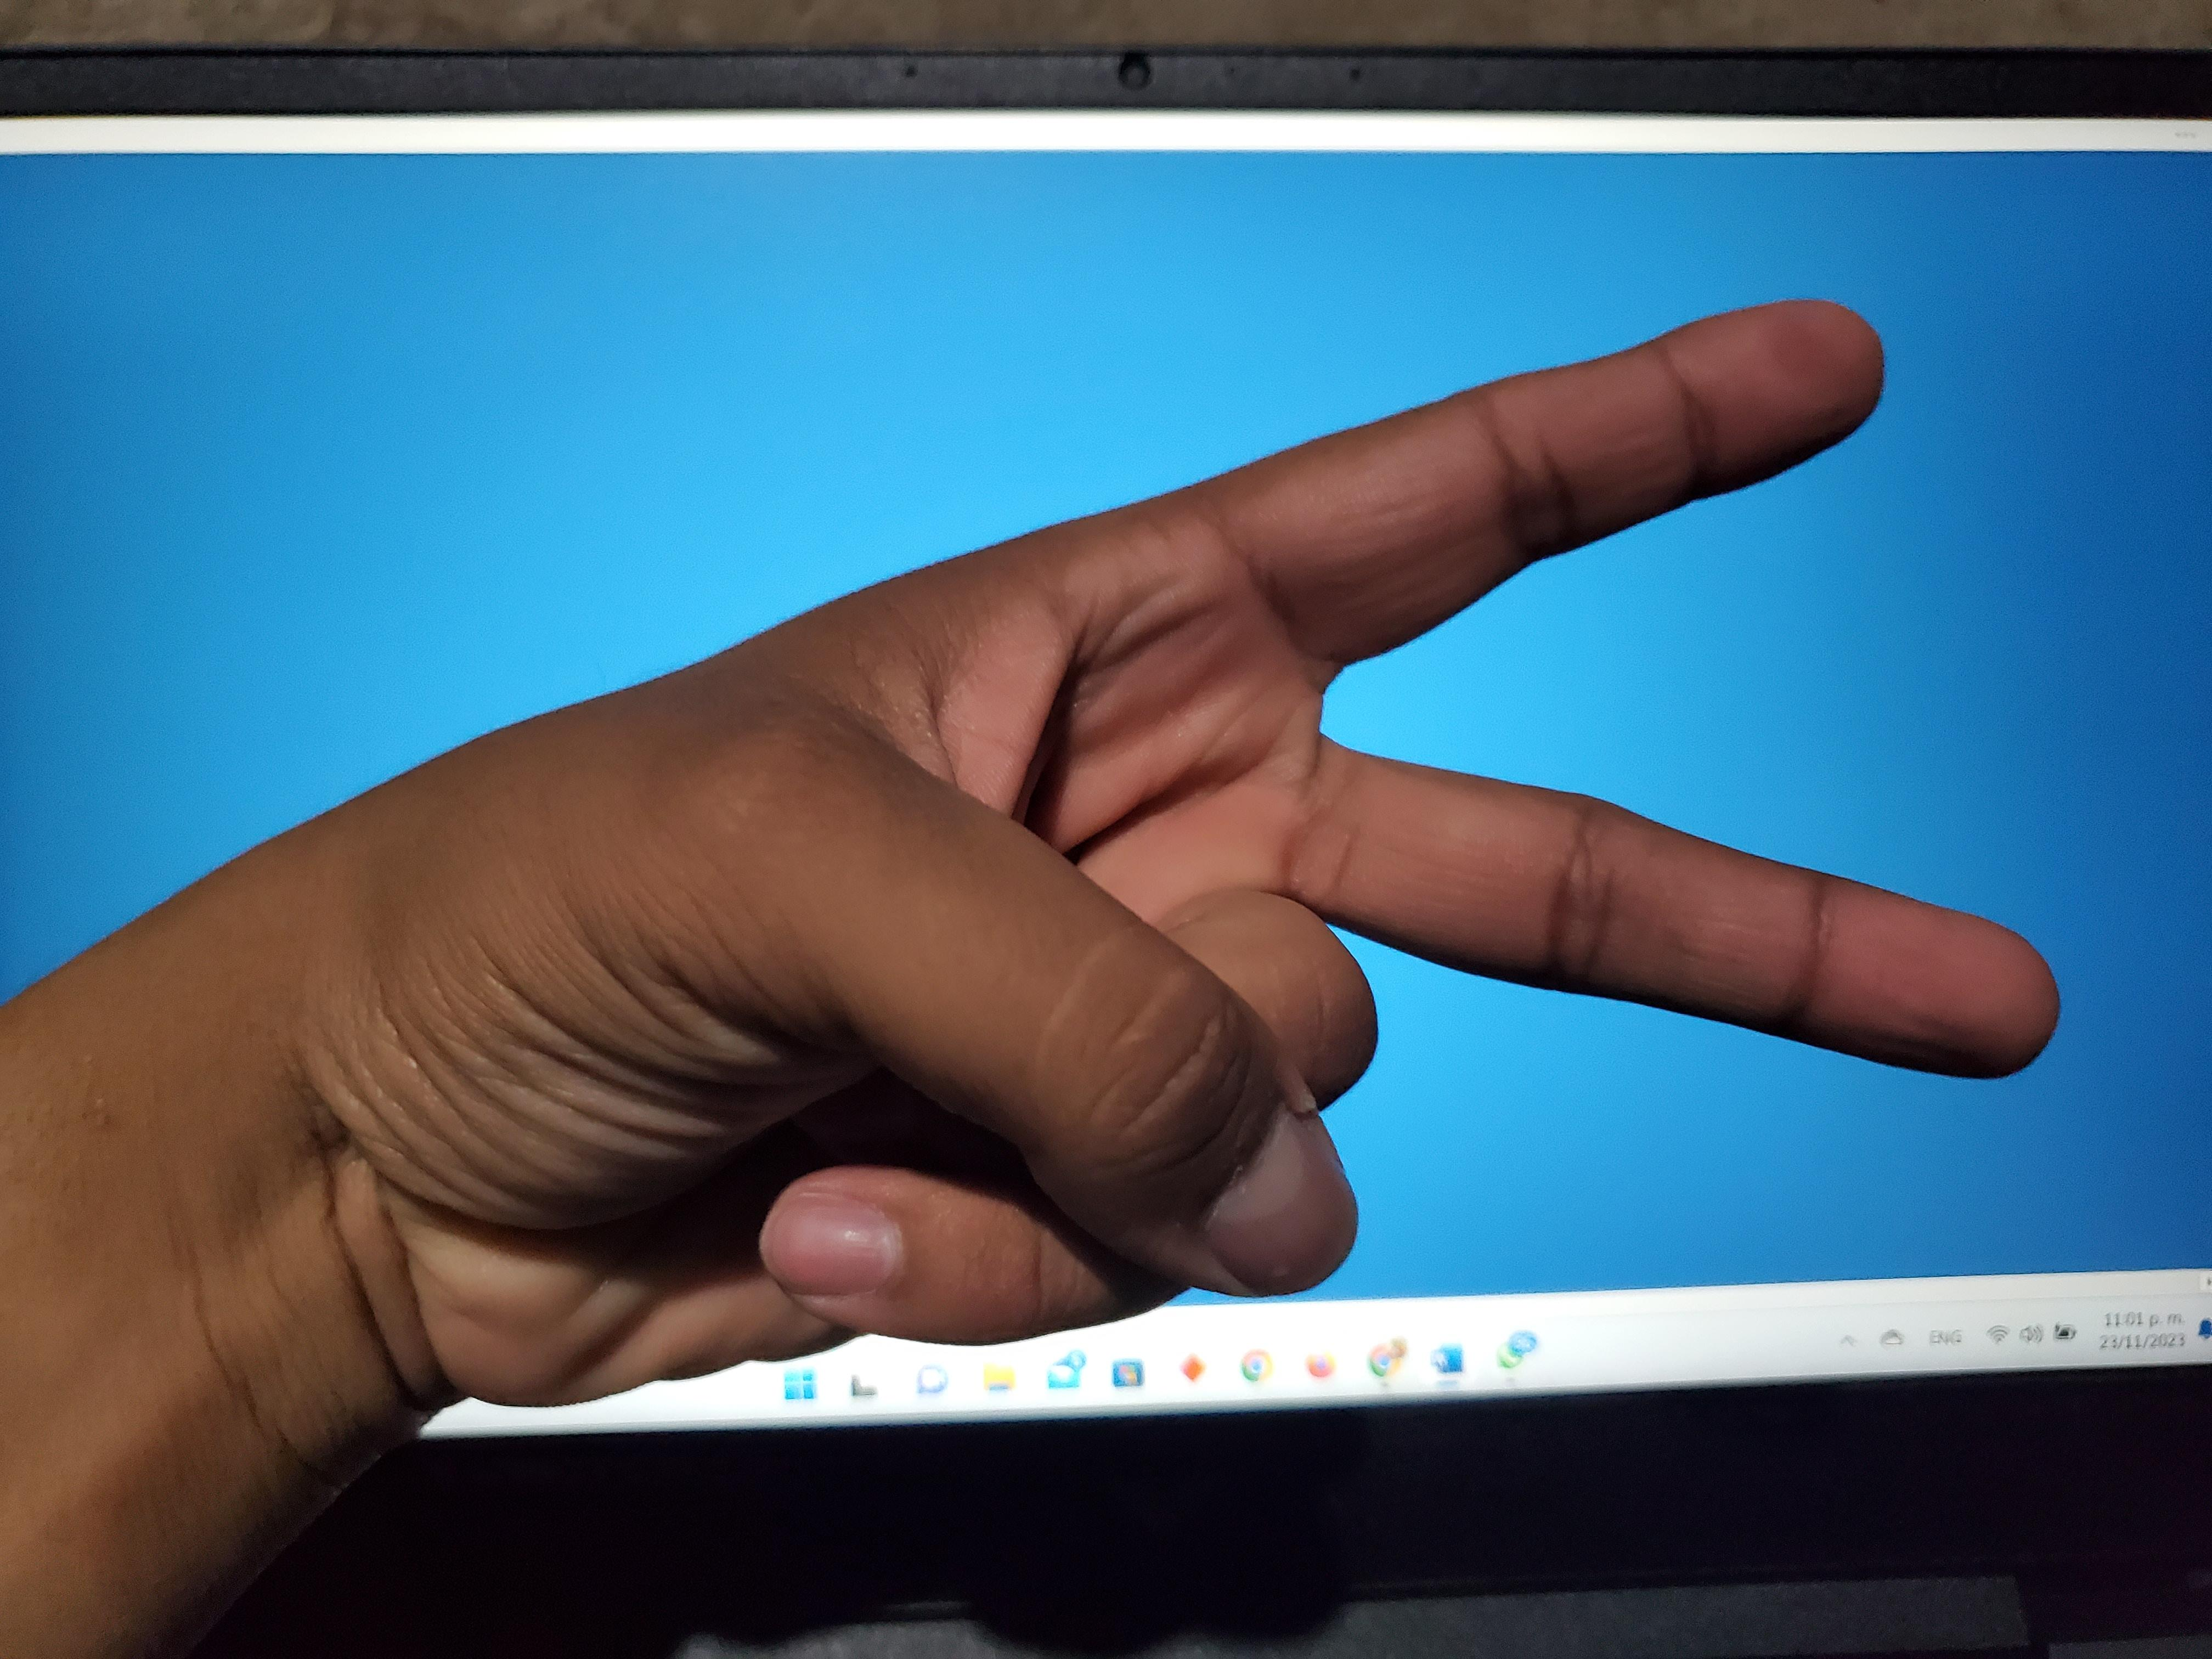Scissor: (132, 188, 2174, 1575)
